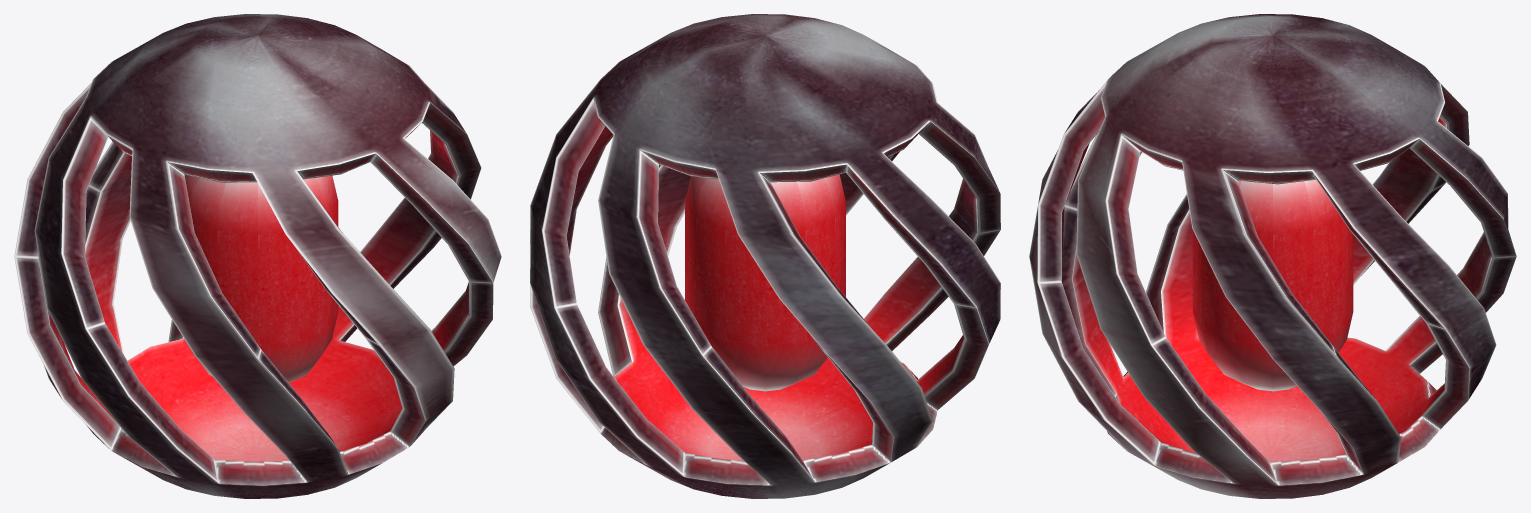
Rendered from Artifact06.FBX.
The picture shows the model from 3 angles, left to right: view 1: azimuth 30°, elevation 25°; view 2: azimuth 150°, elevation 25°; view 3: azimuth 270°, elevation 25°; orthographic projection.
Visible parts, largest first — view 1: Artifact06; view 2: Artifact06; view 3: Artifact06.
Boxes of the visible parts, left/top/right/bottom form: Artifact06: left=14, top=14, right=501, bottom=498; Artifact06: left=530, top=14, right=1000, bottom=498; Artifact06: left=1029, top=14, right=1516, bottom=498.
Bounding box in the file's own units: 23.1 × 23.1 × 23.1.
